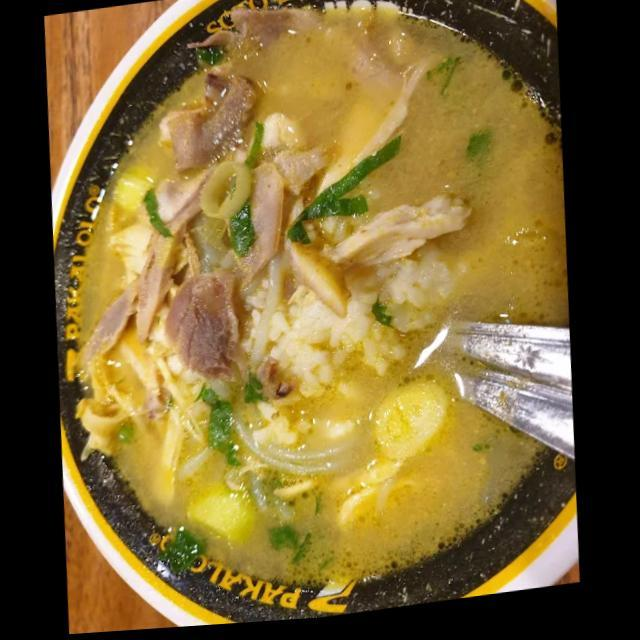Soto: (64, 0, 571, 606)
